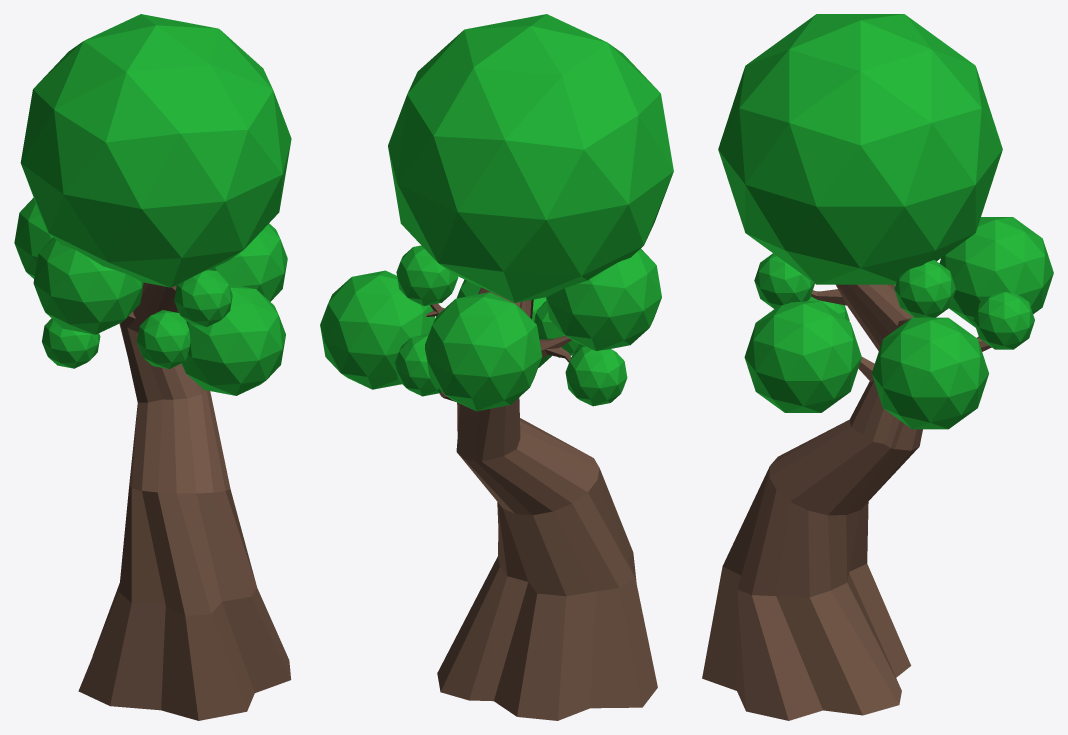
File: Yggdrasil.fbx
The picture shows the model from 3 angles, left to right: view 1: azimuth 30°, elevation 25°; view 2: azimuth 150°, elevation 25°; view 3: azimuth 270°, elevation 25°; orthographic projection. The views are drawn at different scales.
Visible parts, largest first — view 1: YggDrasil_Leaf_Big, YggDrasil_Trunk, YggDrasil_Leaf_Med.003, YggDrasil_Leaf_Med, YggDrasil_Leaf_Med.001, YggDrasil_Leaf_Small.001, YggDrasil_Leaf_Small.004, YggDrasil_Leaf_Small, YggDrasil_Leaf_Med.002; view 2: YggDrasil_Leaf_Big, YggDrasil_Trunk, YggDrasil_Leaf_Med.002, YggDrasil_Leaf_Med.001, YggDrasil_Leaf_Med, YggDrasil_Leaf_Small, YggDrasil_Leaf_Small.002, YggDrasil_Leaf_Small.003, YggDrasil_Leaf_Small.004; view 3: YggDrasil_Leaf_Big, YggDrasil_Trunk, YggDrasil_Leaf_Med.001, YggDrasil_Leaf_Med.003, YggDrasil_Leaf_Med.002, YggDrasil_Leaf_Small.003, YggDrasil_Leaf_Small.002, YggDrasil_Leaf_Small.001.
Boxes of the visible parts, <box> form: YggDrasil_Leaf_Big: <box>20,14,291,287</box>; YggDrasil_Trunk: <box>78,282,291,720</box>; YggDrasil_Leaf_Med.003: <box>181,284,285,395</box>; YggDrasil_Leaf_Med: <box>33,237,143,334</box>; YggDrasil_Leaf_Med.001: <box>210,223,287,301</box>; YggDrasil_Leaf_Small.001: <box>174,269,232,327</box>; YggDrasil_Leaf_Small.004: <box>137,310,190,368</box>; YggDrasil_Leaf_Small: <box>42,318,100,368</box>; YggDrasil_Leaf_Med.002: <box>14,198,53,278</box>; YggDrasil_Leaf_Big: <box>388,14,673,302</box>; YggDrasil_Trunk: <box>426,287,657,720</box>; YggDrasil_Leaf_Med.002: <box>425,292,542,411</box>; YggDrasil_Leaf_Med.001: <box>320,270,435,389</box>; YggDrasil_Leaf_Med: <box>546,248,661,350</box>; YggDrasil_Leaf_Small: <box>565,346,627,406</box>; YggDrasil_Leaf_Small.002: <box>396,245,458,305</box>; YggDrasil_Leaf_Small.003: <box>395,334,441,396</box>; YggDrasil_Leaf_Small.004: <box>534,301,585,357</box>; YggDrasil_Leaf_Big: <box>718,14,1002,284</box>; YggDrasil_Trunk: <box>702,284,991,720</box>; YggDrasil_Leaf_Med.001: <box>871,317,988,429</box>; YggDrasil_Leaf_Med.003: <box>744,301,861,412</box>; YggDrasil_Leaf_Med.002: <box>939,217,1053,327</box>; YggDrasil_Leaf_Small.003: <box>973,292,1034,349</box>; YggDrasil_Leaf_Small.002: <box>894,260,955,317</box>; YggDrasil_Leaf_Small.001: <box>754,253,814,308</box>.
Size of the model in its own units: 1571 by 3501 by 1715.
